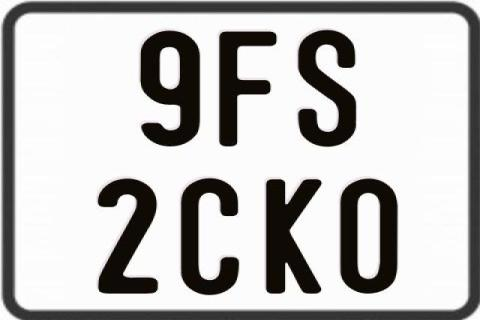0: (140, 30, 205, 150), (98, 176, 162, 291), (337, 176, 396, 292)
C: (181, 177, 242, 297)
F: (218, 29, 279, 149)
K: (266, 177, 325, 295)
S: (296, 28, 356, 146)
